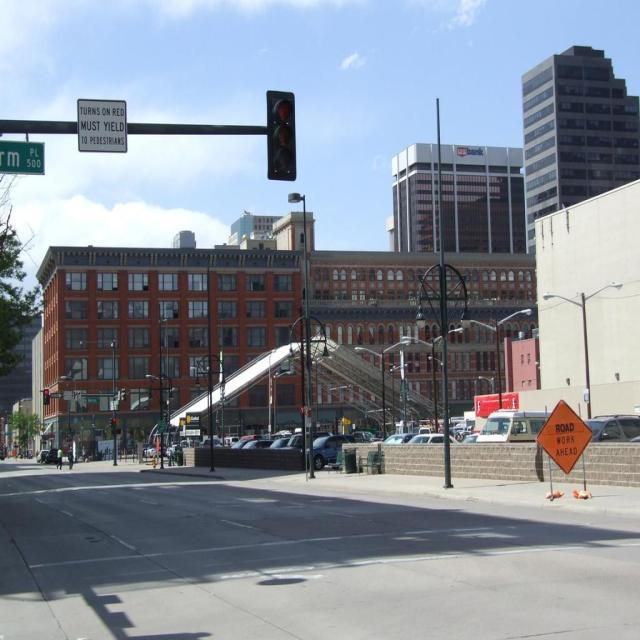off traffic light: (265, 90, 298, 178)
traffic light: (43, 387, 50, 404)
